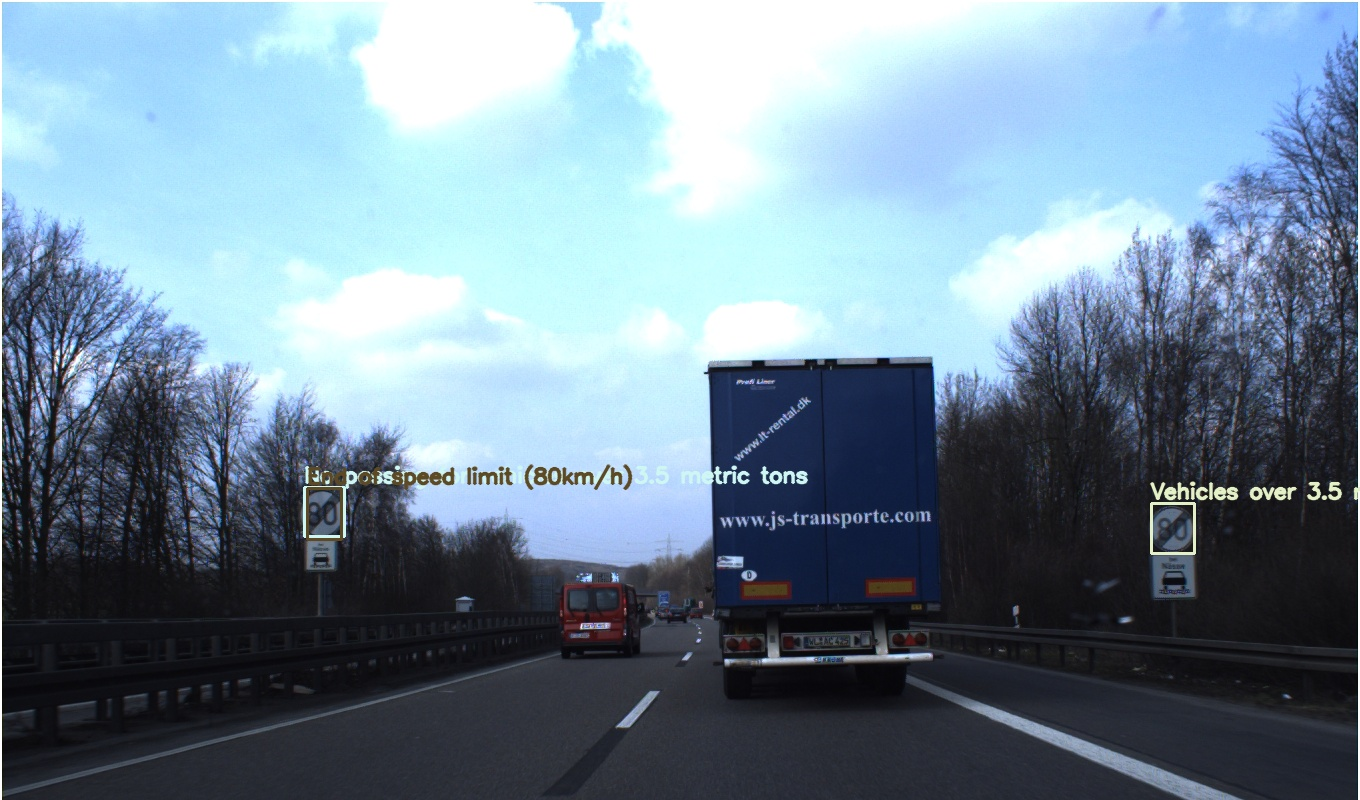Dangerous curve to the right: (750, 419, 784, 452)
